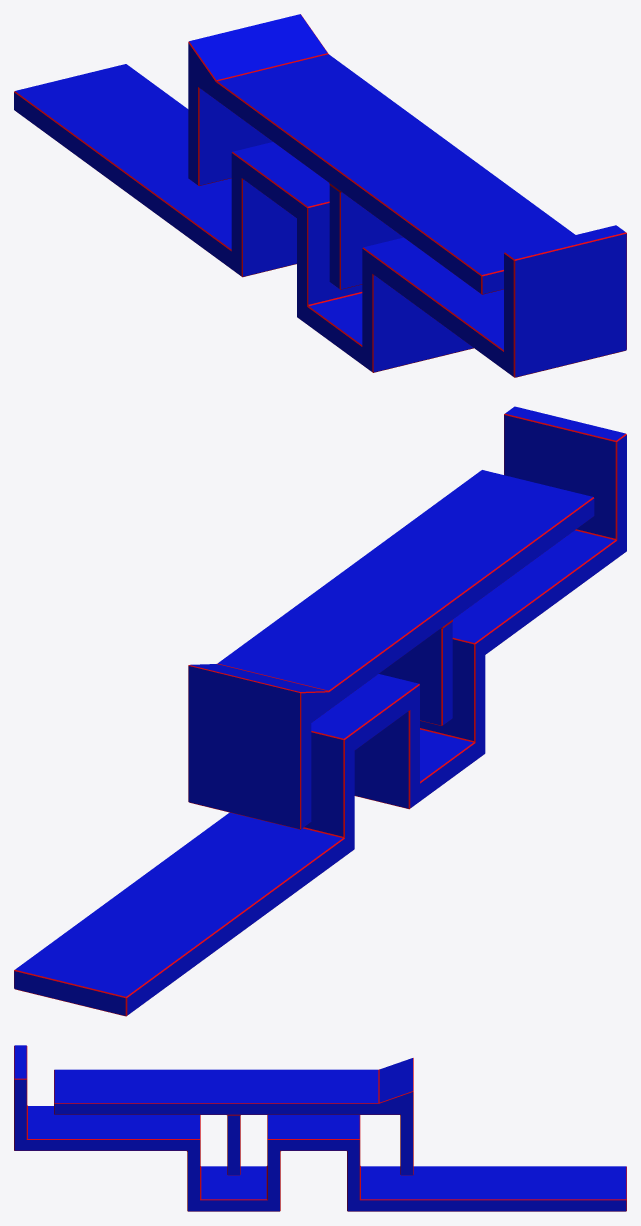
Rendered from L3_2D_Platform.fbx.
The picture shows the model from 3 angles, top to bottom: view 1: azimuth 30°, elevation 25°; view 2: azimuth 150°, elevation 25°; view 3: azimuth 270°, elevation 25°; orthographic projection. The views are drawn at different scales.
Visible parts, largest first — view 1: L3_2D_Platform; view 2: L3_2D_Platform; view 3: L3_2D_Platform.
Part boxes in pixels (x1=…): L3_2D_Platform: x1=14, y1=14, x2=626, y2=377; L3_2D_Platform: x1=14, y1=406, x2=626, y2=1016; L3_2D_Platform: x1=14, y1=1045, x2=626, y2=1211.
Bounding box in the file's own units: 600 × 1100 × 4600.
